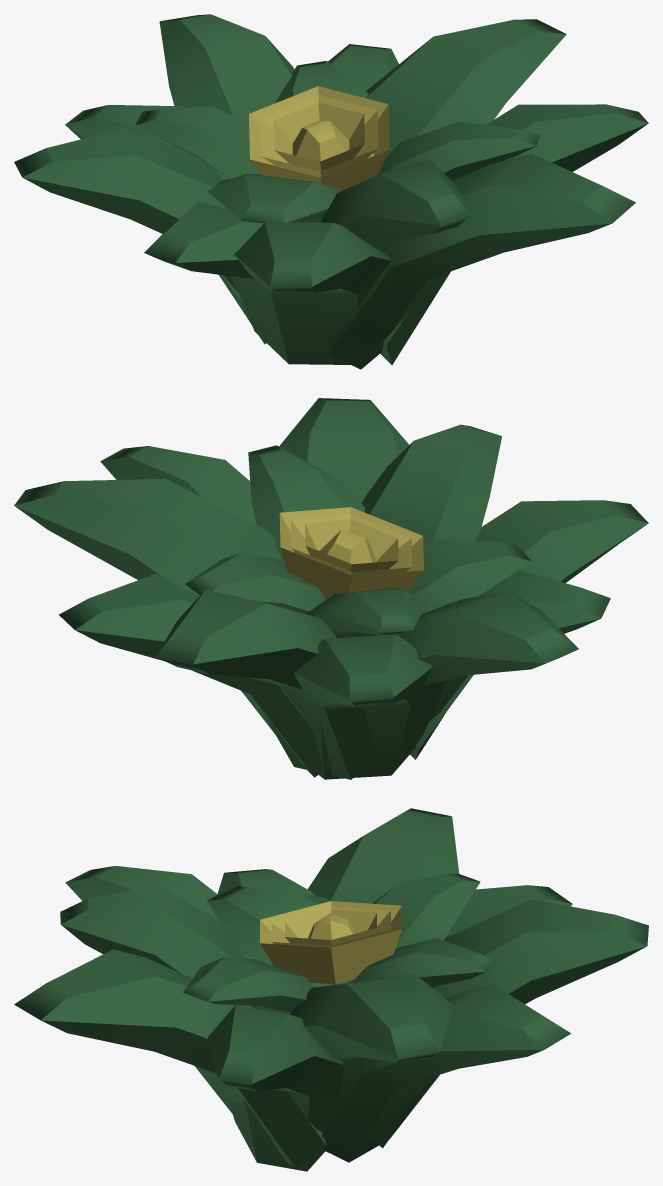
The model's file is moita_florida2.fbx.
The picture shows the model from 3 angles, top to bottom: view 1: azimuth 30°, elevation 25°; view 2: azimuth 150°, elevation 25°; view 3: azimuth 270°, elevation 25°; orthographic projection. The views are drawn at different scales.
Visible parts, largest first — view 1: maoita_florida_1; view 2: maoita_florida_1; view 3: maoita_florida_1.
Boxes of the visible parts, left/top/right/bottom form: maoita_florida_1: left=14, top=14, right=648, bottom=369; maoita_florida_1: left=14, top=398, right=648, bottom=779; maoita_florida_1: left=14, top=808, right=648, bottom=1171.
Bounding box in the file's own units: 4.3 × 1.9 × 4.31.
